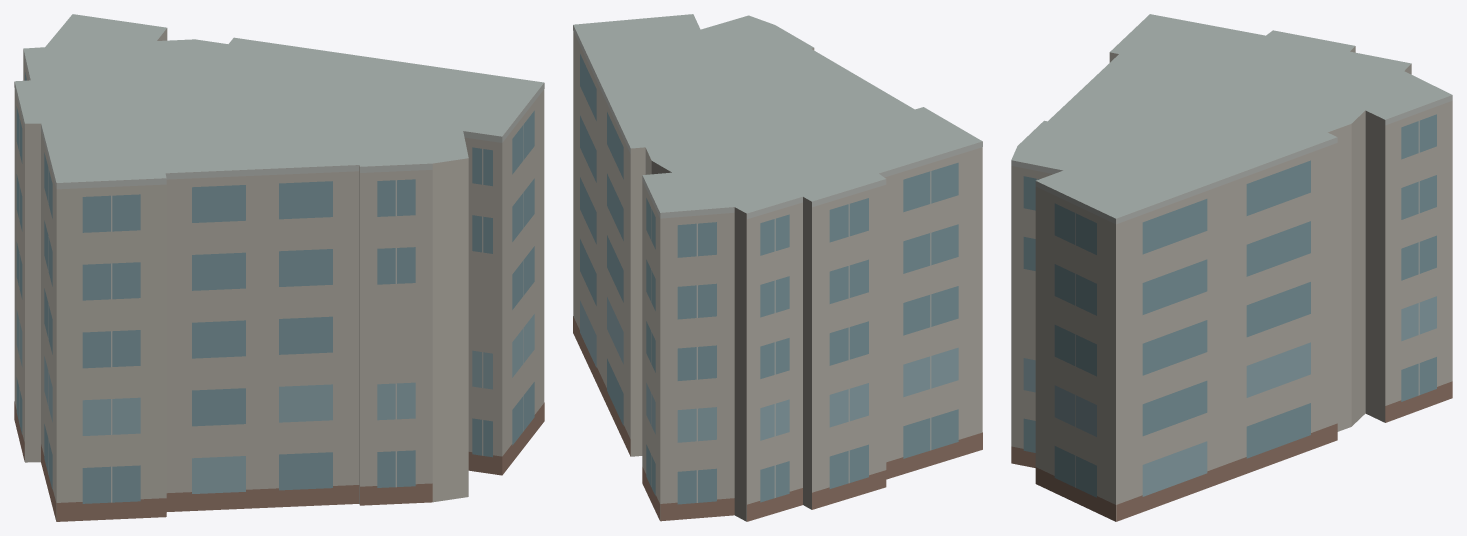
The model's file is survey-upis-32989970.glb.
3 renders of one model, left to right at view 1: azimuth 30°, elevation 25°; view 2: azimuth 150°, elevation 25°; view 3: azimuth 270°, elevation 25°, orthographic. The views are drawn at different scales.
Parts seen in each view (by area): view 1: survey-upis-32989970.tmp; view 2: survey-upis-32989970.tmp; view 3: survey-upis-32989970.tmp.
Boxes of the visible parts, box(x1,y1,x2,y2) form: survey-upis-32989970.tmp: box(14, 14, 544, 521); survey-upis-32989970.tmp: box(573, 14, 982, 521); survey-upis-32989970.tmp: box(1011, 14, 1452, 521).
Size of the model in its own units: 18.99 by 13.1 by 17.3.
